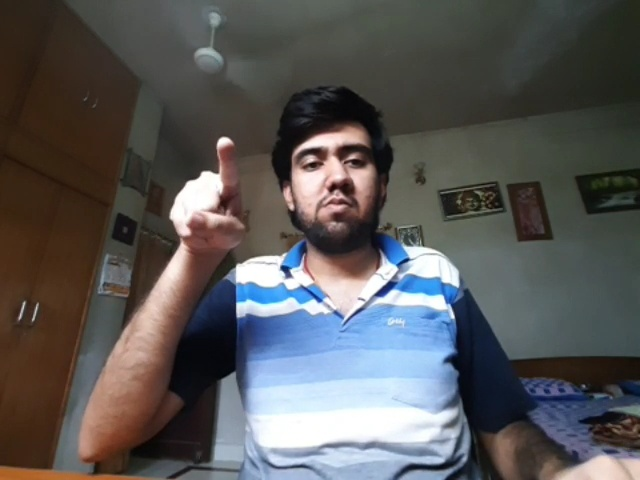You: (171, 137, 245, 251)
